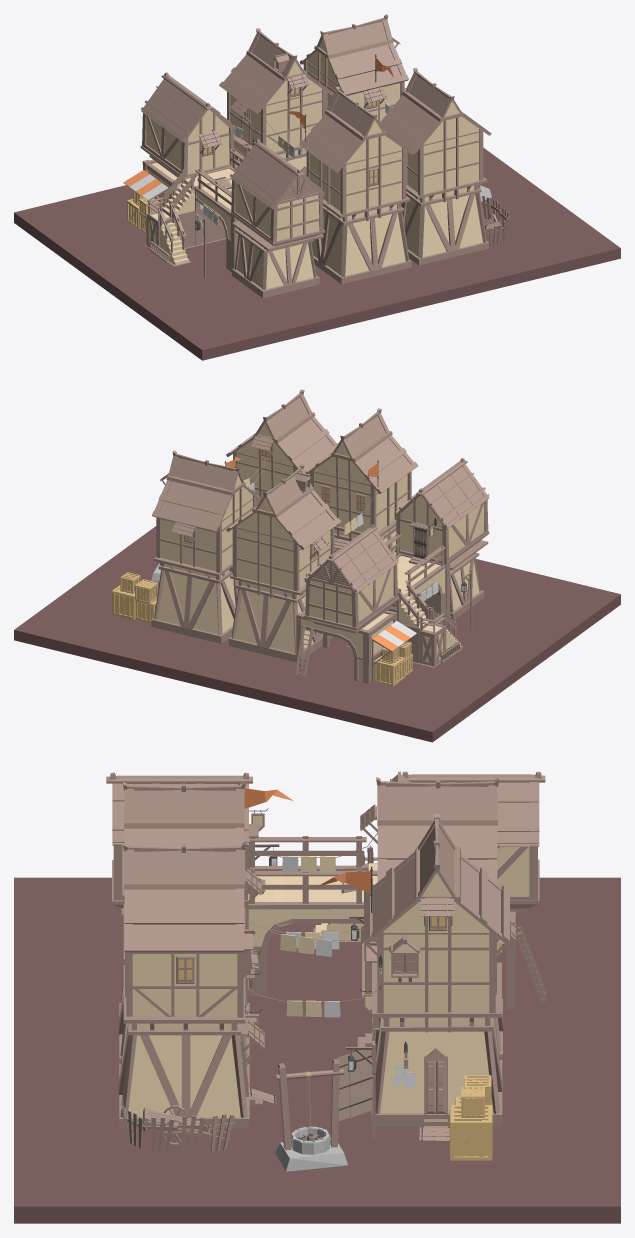
The model's file is fantasy_backstreet.fbx.
3 renders of one model, top to bottom at view 1: azimuth 30°, elevation 25°; view 2: azimuth 150°, elevation 25°; view 3: azimuth 270°, elevation 25°, orthographic. The views are drawn at different scales.
Visible parts, largest first — view 1: 地面 ground, 家左2 house L 2, 家左1 house L 1, 家左3 house L 3, 家右2 house R 2, 二階家 2F house, 家右1 house R 1, 右部分 parts R, 左部分 parts L, 階段下部分 parts lower upstair, 日よけ tarp, 日よけ下の木箱 woodbox (+2 smaller); view 2: 地面 ground, 家右1 house R 1, 家右2 house R 2, 家左2 house L 2, 家左3 house L 3, 二階家 2F house, 家左1 house L 1, 家の足 house lower parts, 左部分 parts L, 木箱 woodbox, 日よけ下の木箱 woodbox, 階段下部分 parts lower upstair (+2 smaller); view 3: 地面 ground, 家左1 house L 1, 家右1 house R 1, 家右2 house R 2, 家左2 house L 2, 二階家 2F house, 左部分 parts L, 家左3 house L 3, 木箱 woodbox, 井戸 well, 玄関板 entrance doormat.002, 手すり後ろ handrail B (+14 smaller).
Boxes of the visible parts, <box> form: 地面 ground: <box>14,147,620,360</box>; 家左2 house L 2: <box>299,86,413,284</box>; 家左1 house L 1: <box>379,67,491,265</box>; 家左3 house L 3: <box>230,139,325,298</box>; 家右2 house R 2: <box>219,28,333,169</box>; 二階家 2F house: <box>140,72,235,180</box>; 家右1 house R 1: <box>299,14,408,121</box>; 右部分 parts R: <box>162,166,237,249</box>; 左部分 parts L: <box>196,180,238,272</box>; 階段下部分 parts lower upstair: <box>145,211,191,266</box>; 日よけ tarp: <box>123,170,168,207</box>; 日よけ下の木箱 woodbox: <box>127,190,158,233</box>; 地面 ground: <box>14,526,620,742</box>; 家右1 house R 1: <box>151,450,260,643</box>; 家右2 house R 2: <box>226,464,341,662</box>; 家左2 house L 2: <box>305,408,418,555</box>; 家左3 house L 3: <box>394,458,489,620</box>; 二階家 2F house: <box>304,524,399,633</box>; 家左1 house L 1: <box>226,389,338,506</box>; 家の足 house lower parts: <box>296,610,396,683</box>; 左部分 parts L: <box>394,553,449,624</box>; 木箱 woodbox: <box>112,572,157,622</box>; 日よけ下の木箱 woodbox: <box>374,641,412,686</box>; 階段下部分 parts lower upstair: <box>418,622,462,667</box>; 地面 ground: <box>14,877,620,1223</box>; 家左1 house L 1: <box>118,841,249,1128</box>; 家右1 house R 1: <box>364,814,509,1126</box>; 家右2 house R 2: <box>372,777,503,1065</box>; 家左2 house L 2: <box>118,781,249,1063</box>; 二階家 2F house: <box>402,771,545,911</box>; 左部分 parts L: <box>245,865,364,996</box>; 家左3 house L 3: <box>106,772,252,917</box>; 木箱 woodbox: <box>449,1075,492,1160</box>; 井戸 well: <box>276,1059,343,1154</box>; 玄関板 entrance doormat.002: <box>337,1046,372,1121</box>; 手すり後ろ handrail B: <box>250,836,366,867</box>.
Bounding box in the file's own units: 2210 × 871 × 1723.
